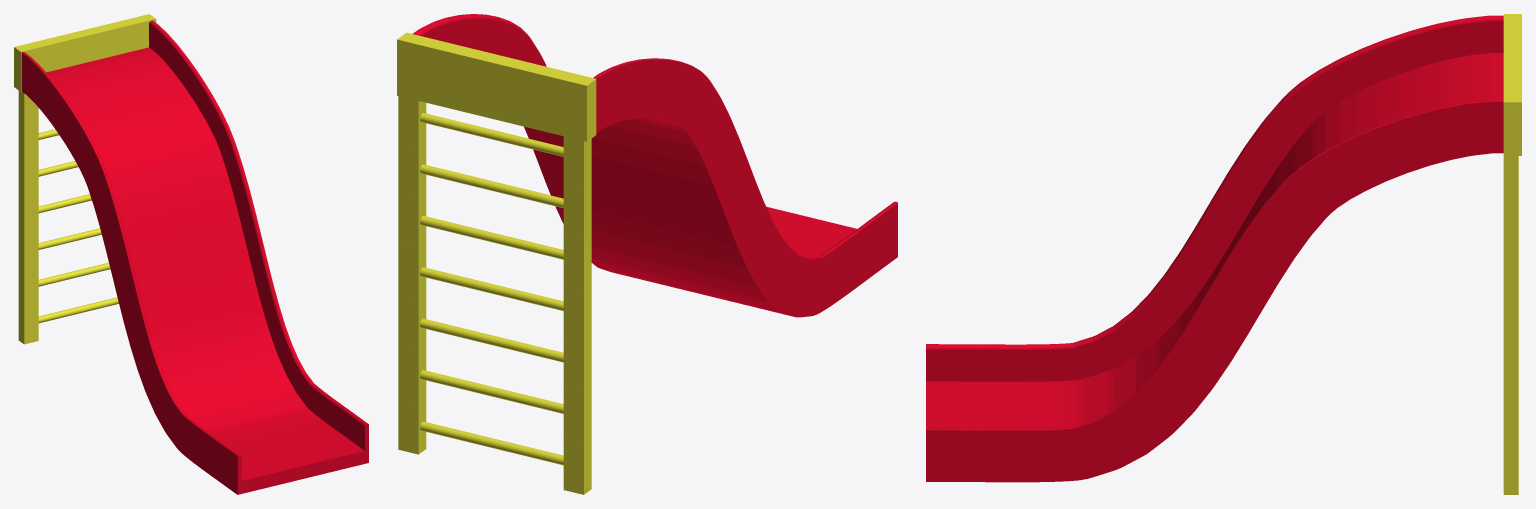
File: slide.fbx
3 views of the same model, side by side, from view 1: azimuth 30°, elevation 25°; view 2: azimuth 150°, elevation 25°; view 3: azimuth 270°, elevation 25° (orthographic). The views are drawn at different scales.
Visible parts, largest first — view 1: Cube.001; view 2: Cube.001; view 3: Cube.001.
Boxes of the visible parts, <box> form: Cube.001: <box>14,14,368,494</box>; Cube.001: <box>397,14,897,494</box>; Cube.001: <box>926,14,1521,494</box>.
Bounding box in the file's own units: 361 × 747 × 1028.
